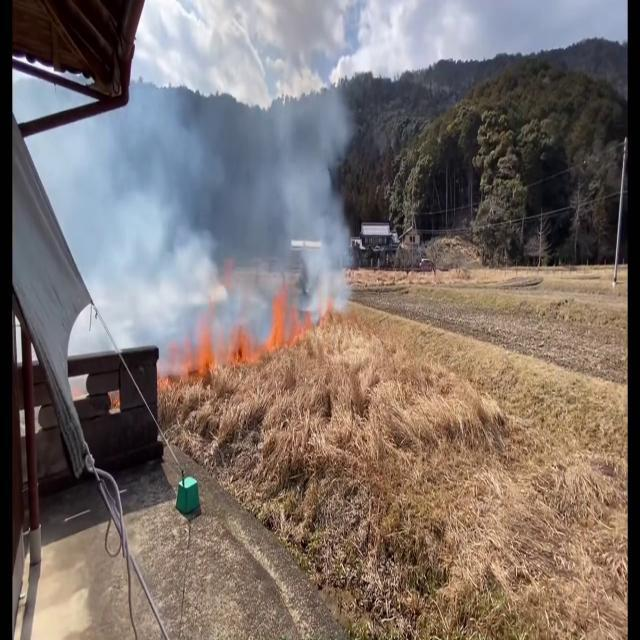Fire: (176, 305, 252, 379), (266, 278, 290, 354)
Smoke: (98, 44, 354, 350)
